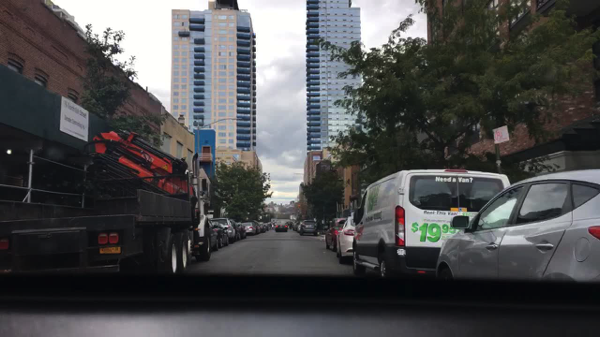car: (435, 170, 599, 278), (354, 169, 508, 277), (335, 217, 355, 264), (327, 217, 347, 253), (213, 218, 234, 244), (211, 222, 229, 250), (299, 219, 318, 236), (230, 220, 240, 241), (237, 221, 246, 240), (242, 222, 254, 236), (274, 220, 287, 232), (258, 222, 266, 233), (253, 220, 259, 234), (291, 222, 298, 232), (296, 222, 302, 233), (264, 222, 269, 231), (288, 220, 293, 229), (270, 222, 273, 229), (285, 219, 289, 223)
traffic sign: (491, 128, 510, 145), (259, 215, 263, 220)
truck: (1, 65, 210, 272)
